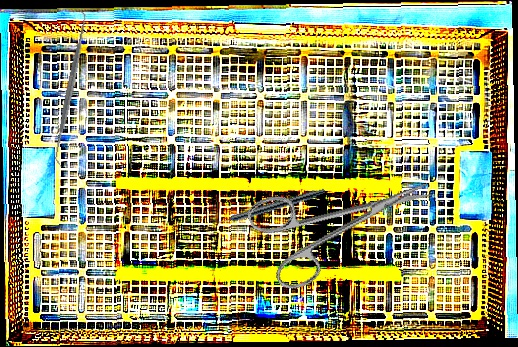Handpiece: (211, 185, 326, 229)
Iris Scissors: (244, 147, 446, 296)
Spatula Surgical: (45, 8, 96, 169)
